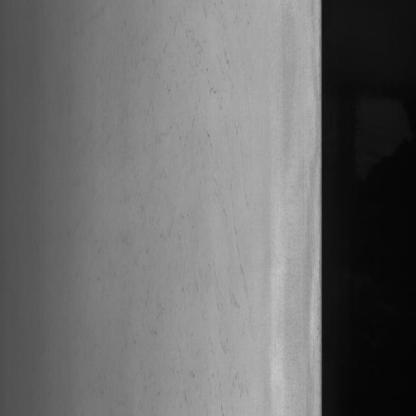silk_spot: (170, 17, 250, 355)
